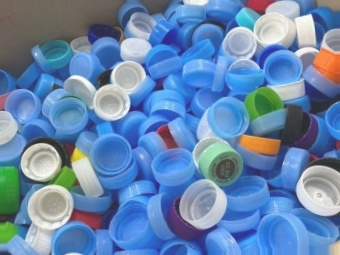plastic: (23, 38, 161, 183)
